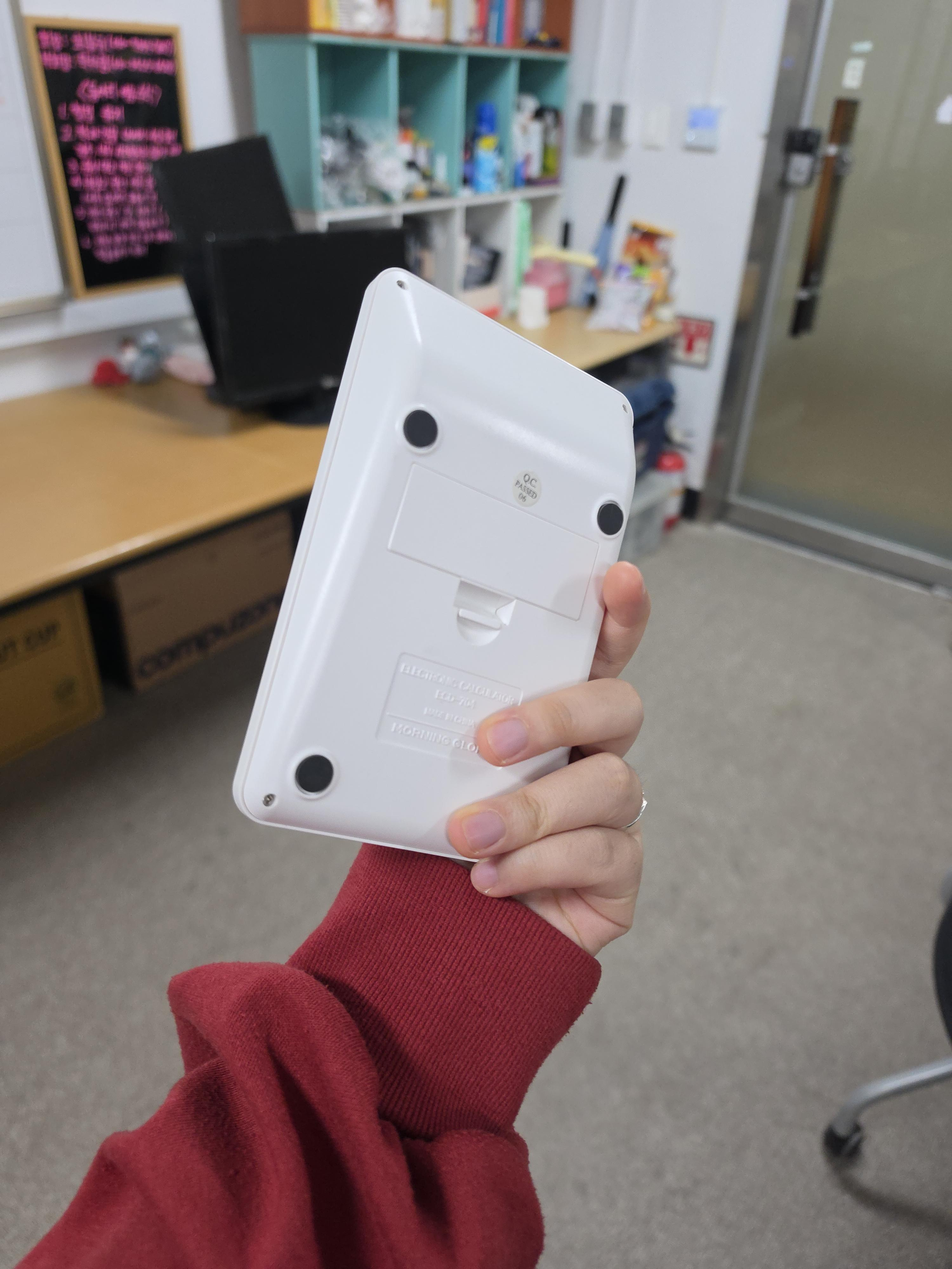calculator: (232, 267, 637, 862)
